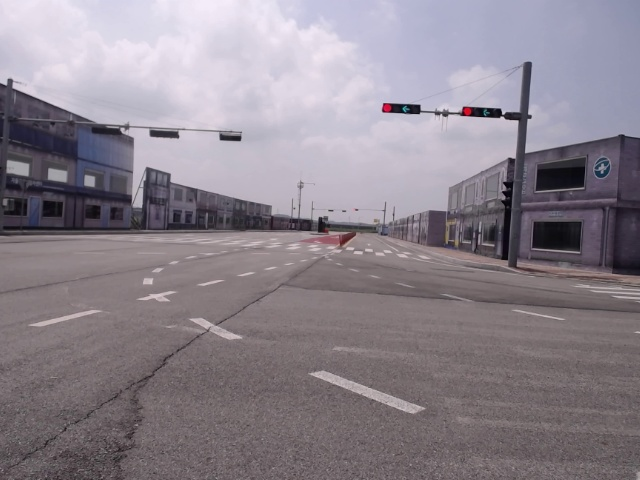left_green_4: (462, 107, 500, 118), (383, 103, 420, 114)
